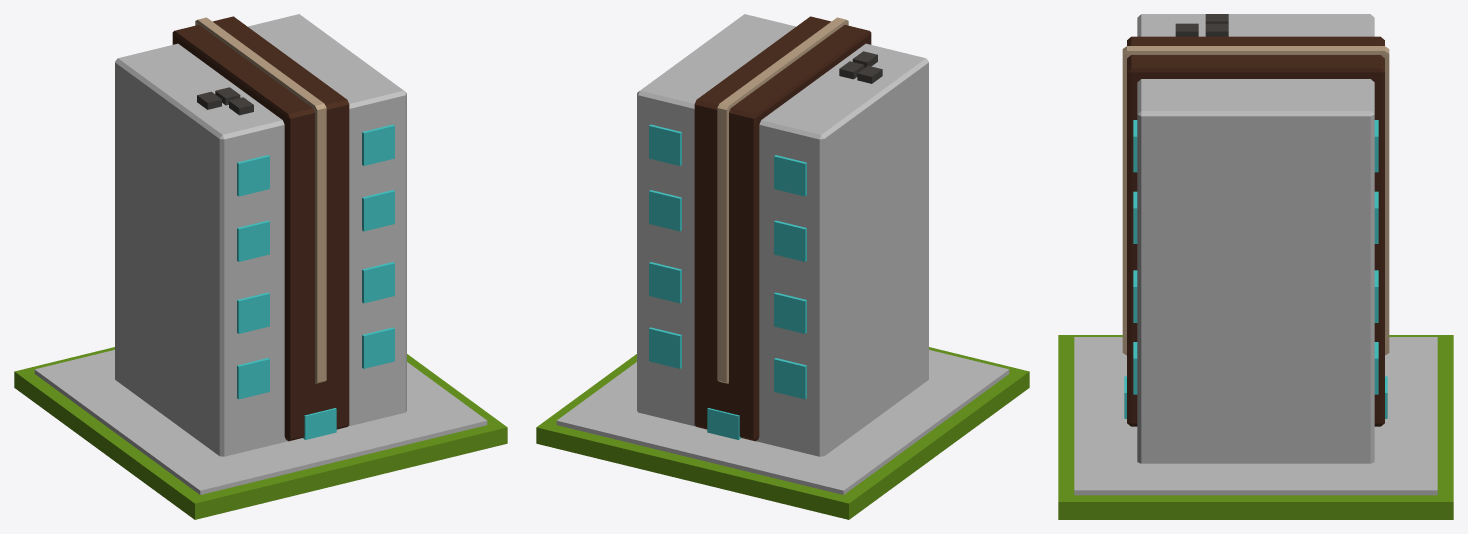
File: Office_1.fbx
3 renders of one model, left to right at view 1: azimuth 30°, elevation 25°; view 2: azimuth 150°, elevation 25°; view 3: azimuth 270°, elevation 25°, orthographic. The views are drawn at different scales.
Visible parts, largest first — view 1: Building, Something, Ground_Foundation, Cube, Line_Detail_Thing, Window__3_, Window__5_, Window__2_, Window__4_, Window__6_, Window__7_, Window (+2 smaller); view 2: Building, Something, Ground_Foundation, Cube, Line_Detail_Thing, Window__3__1, Window__5__1, Window__2__1, Window__4__1, Window__6__1, Window_1, Window__7__1 (+2 smaller); view 3: Building, Ground_Foundation, Cube, Something, Line_Detail_Thing.
Part boxes in pixels (x1=…): Building: x1=115, y1=14, x2=406, y2=456; Something: x1=172, y1=16, x2=349, y2=441; Ground_Foundation: x1=34, y1=350, x2=487, y2=494; Cube: x1=14, y1=347, x2=507, y2=519; Line_Detail_Thing: x1=195, y1=17, x2=326, y2=383; Window__3_: x1=362, y1=190, x2=394, y2=231; Window__5_: x1=362, y1=262, x2=394, y2=303; Window__2_: x1=237, y1=220, x2=269, y2=261; Window__4_: x1=237, y1=292, x2=269, y2=333; Window__6_: x1=237, y1=358, x2=269, y2=399; Window__7_: x1=362, y1=327, x2=394, y2=368; Window: x1=237, y1=155, x2=269, y2=196; Building: x1=637, y1=14, x2=928, y2=456; Something: x1=694, y1=16, x2=871, y2=441; Ground_Foundation: x1=556, y1=350, x2=1009, y2=494; Cube: x1=536, y1=347, x2=1029, y2=519; Line_Detail_Thing: x1=717, y1=17, x2=848, y2=383; Window__3__1: x1=649, y1=190, x2=681, y2=231; Window__5__1: x1=649, y1=262, x2=681, y2=303; Window__2__1: x1=774, y1=220, x2=806, y2=261; Window__4__1: x1=774, y1=292, x2=806, y2=333; Window__6__1: x1=774, y1=358, x2=806, y2=399; Window_1: x1=774, y1=155, x2=806, y2=196; Window__7__1: x1=649, y1=327, x2=681, y2=368; Building: x1=1137, y1=14, x2=1374, y2=463; Ground_Foundation: x1=1074, y1=337, x2=1437, y2=495; Cube: x1=1058, y1=335, x2=1453, y2=519; Something: x1=1127, y1=36, x2=1384, y2=426; Line_Detail_Thing: x1=1122, y1=46, x2=1389, y2=355.
Bounding box in the file's own units: 100 × 108 × 100.
